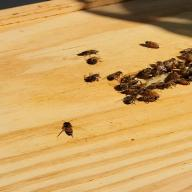Bee: (50, 119, 84, 138), (103, 67, 132, 81), (78, 70, 104, 84), (137, 40, 168, 51), (118, 95, 145, 106), (75, 47, 104, 56)
